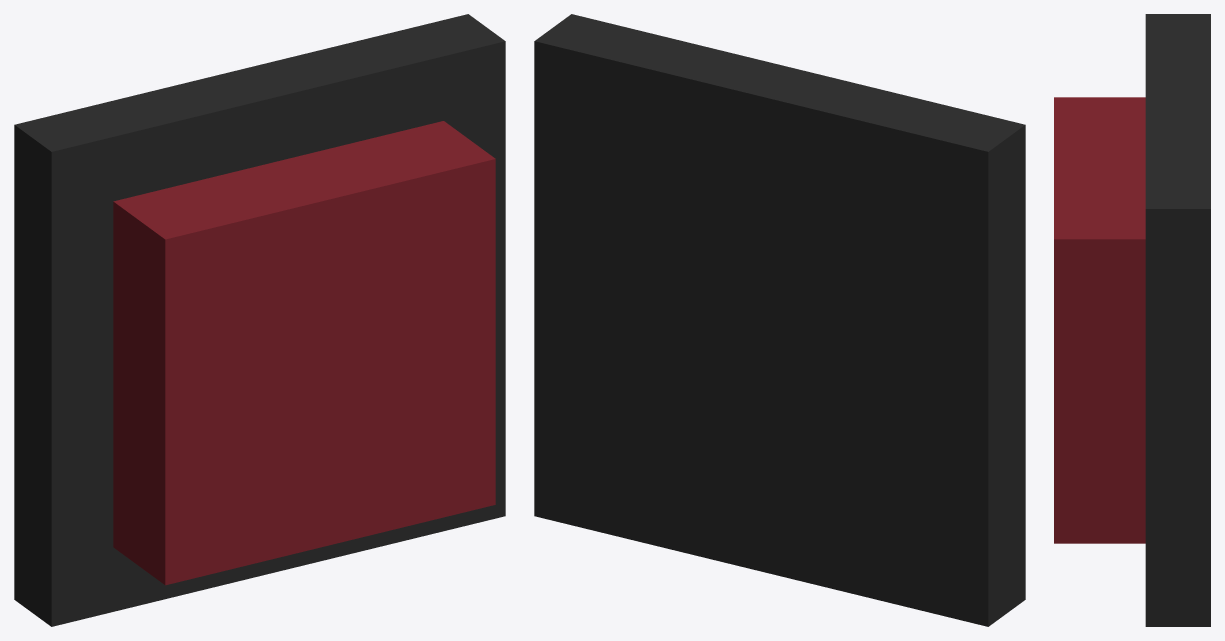
The model's file is Botao.fbx.
3 renders of one model, left to right at view 1: azimuth 30°, elevation 25°; view 2: azimuth 150°, elevation 25°; view 3: azimuth 270°, elevation 25°, orthographic. The views are drawn at different scales.
Visible parts, largest first — view 1: Cubo, Cube.001; view 2: Cube.001; view 3: Cubo, Cube.001.
Boxes of the visible parts, x1,y1,x2,y2 form: Cubo: (113, 121, 495, 585); Cube.001: (14, 14, 505, 626); Cube.001: (534, 14, 1025, 626); Cubo: (1054, 97, 1145, 543); Cube.001: (1145, 14, 1210, 626).
Bounding box in the file's own units: 200 × 200 × 68.03.
